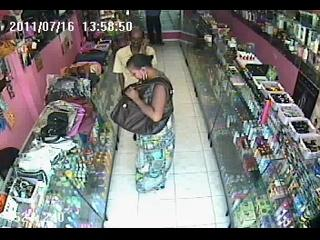Normal: (124, 55, 176, 194), (110, 54, 174, 136), (112, 28, 158, 93), (145, 10, 165, 46), (76, 50, 109, 65)
